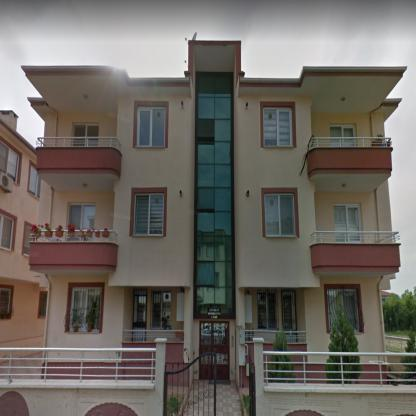door: (199, 320, 230, 380), (282, 292, 297, 341), (133, 290, 146, 340)
window: (194, 74, 234, 317), (69, 288, 101, 332), (327, 289, 359, 330), (265, 194, 295, 236), (134, 193, 163, 234), (264, 108, 292, 146), (138, 107, 164, 147), (334, 204, 361, 242), (0, 142, 18, 182), (68, 204, 95, 230), (258, 290, 276, 329), (152, 292, 170, 329), (72, 124, 99, 145), (330, 126, 355, 146), (1, 214, 13, 250), (29, 166, 40, 198), (0, 288, 10, 316), (39, 293, 46, 317)
